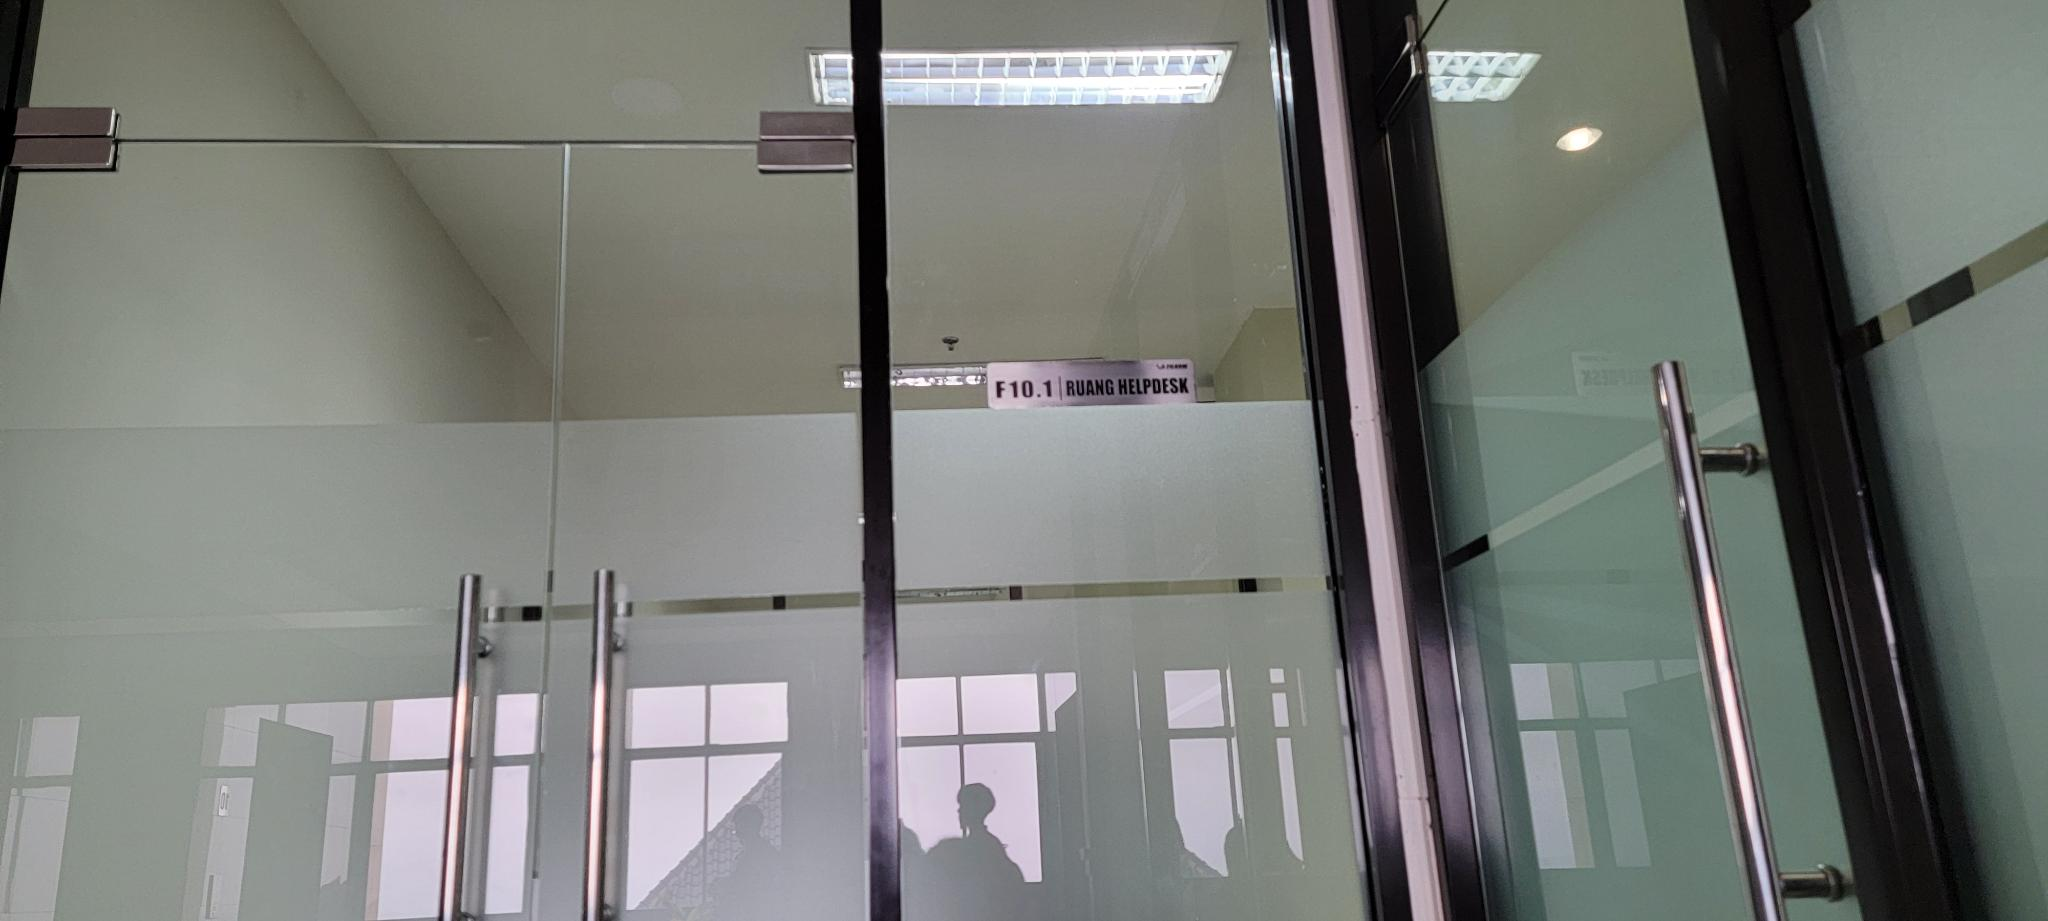plate: (984, 358, 1196, 414)
